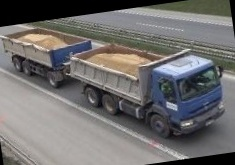truck: (1, 2, 231, 160)
